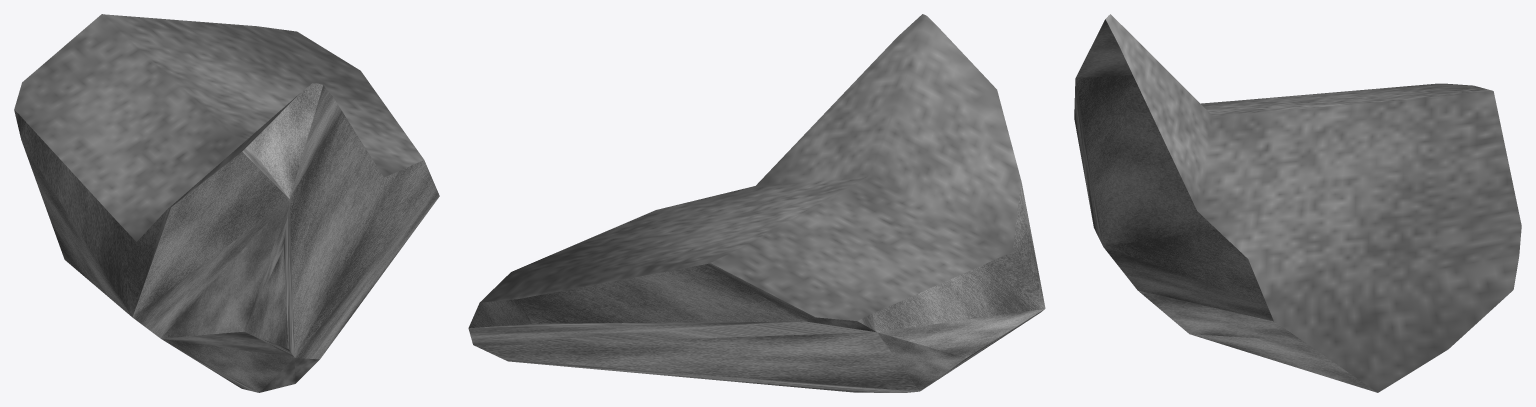
File: body_cell_044.fbx
The picture shows the model from 3 angles, left to right: view 1: azimuth 30°, elevation 25°; view 2: azimuth 150°, elevation 25°; view 3: azimuth 270°, elevation 25°; orthographic projection. The views are drawn at different scales.
Parts seen in each view (by area): view 1: body_cell.044; view 2: body_cell.044; view 3: body_cell.044.
Part boxes in pixels (x1,y1,x2,y2): body_cell.044: (14,14,439,392); body_cell.044: (468,14,1045,392); body_cell.044: (1074,14,1521,392).
Bounding box in the file's own units: 57.44 × 45.76 × 60.17.
